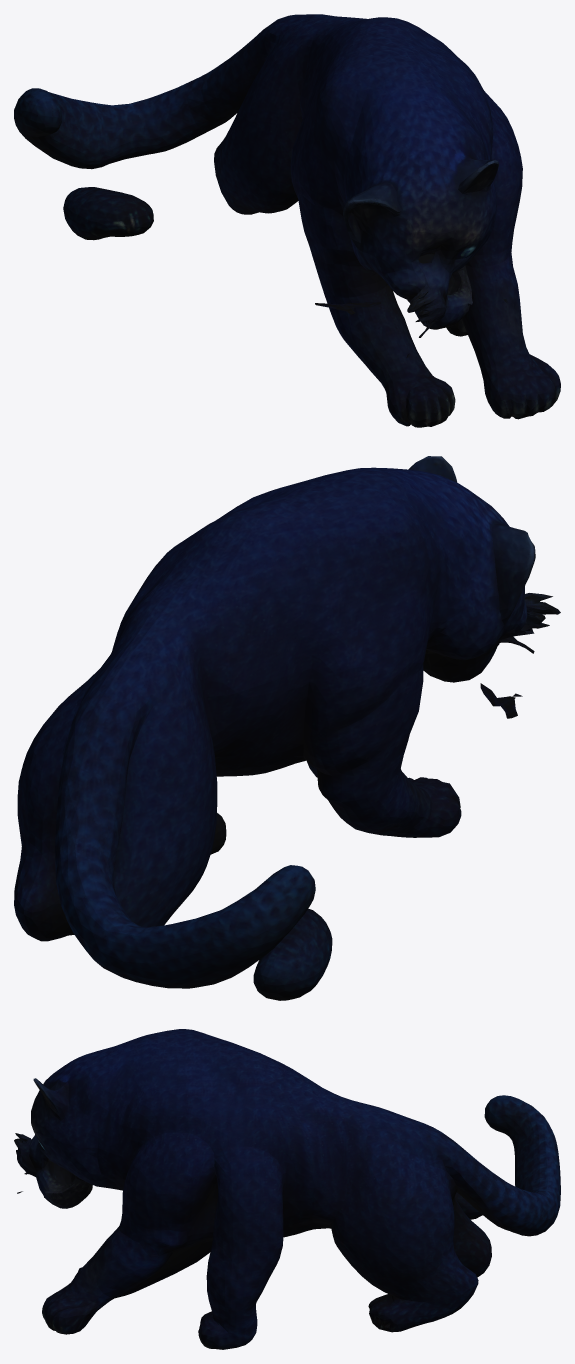
Rendered from sample.glb.
3 views of the same model, one above another, from view 1: azimuth 30°, elevation 25°; view 2: azimuth 150°, elevation 25°; view 3: azimuth 270°, elevation 25° (orthographic). The views are drawn at different scales.
Visible parts, largest first — view 1: world; view 2: world; view 3: world.
Part boxes in pixels (bbox=[...]): world: bbox=[14, 14, 560, 427]; world: bbox=[14, 456, 560, 1000]; world: bbox=[14, 1029, 560, 1349].
Bounding box in the file's own units: 0.5522 × 0.5379 × 0.9966.
Materials: 1 (1 with a texture image).
